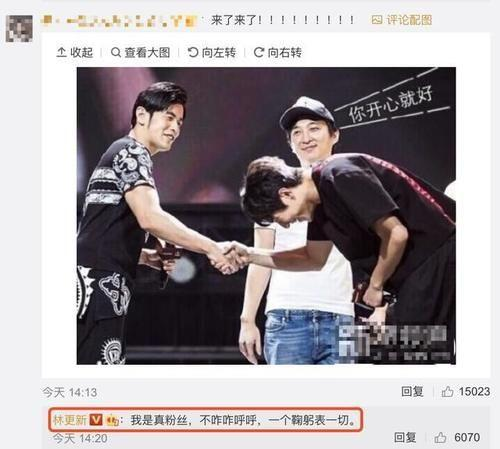bending: (235, 154, 464, 371)
up: (76, 81, 180, 371)
